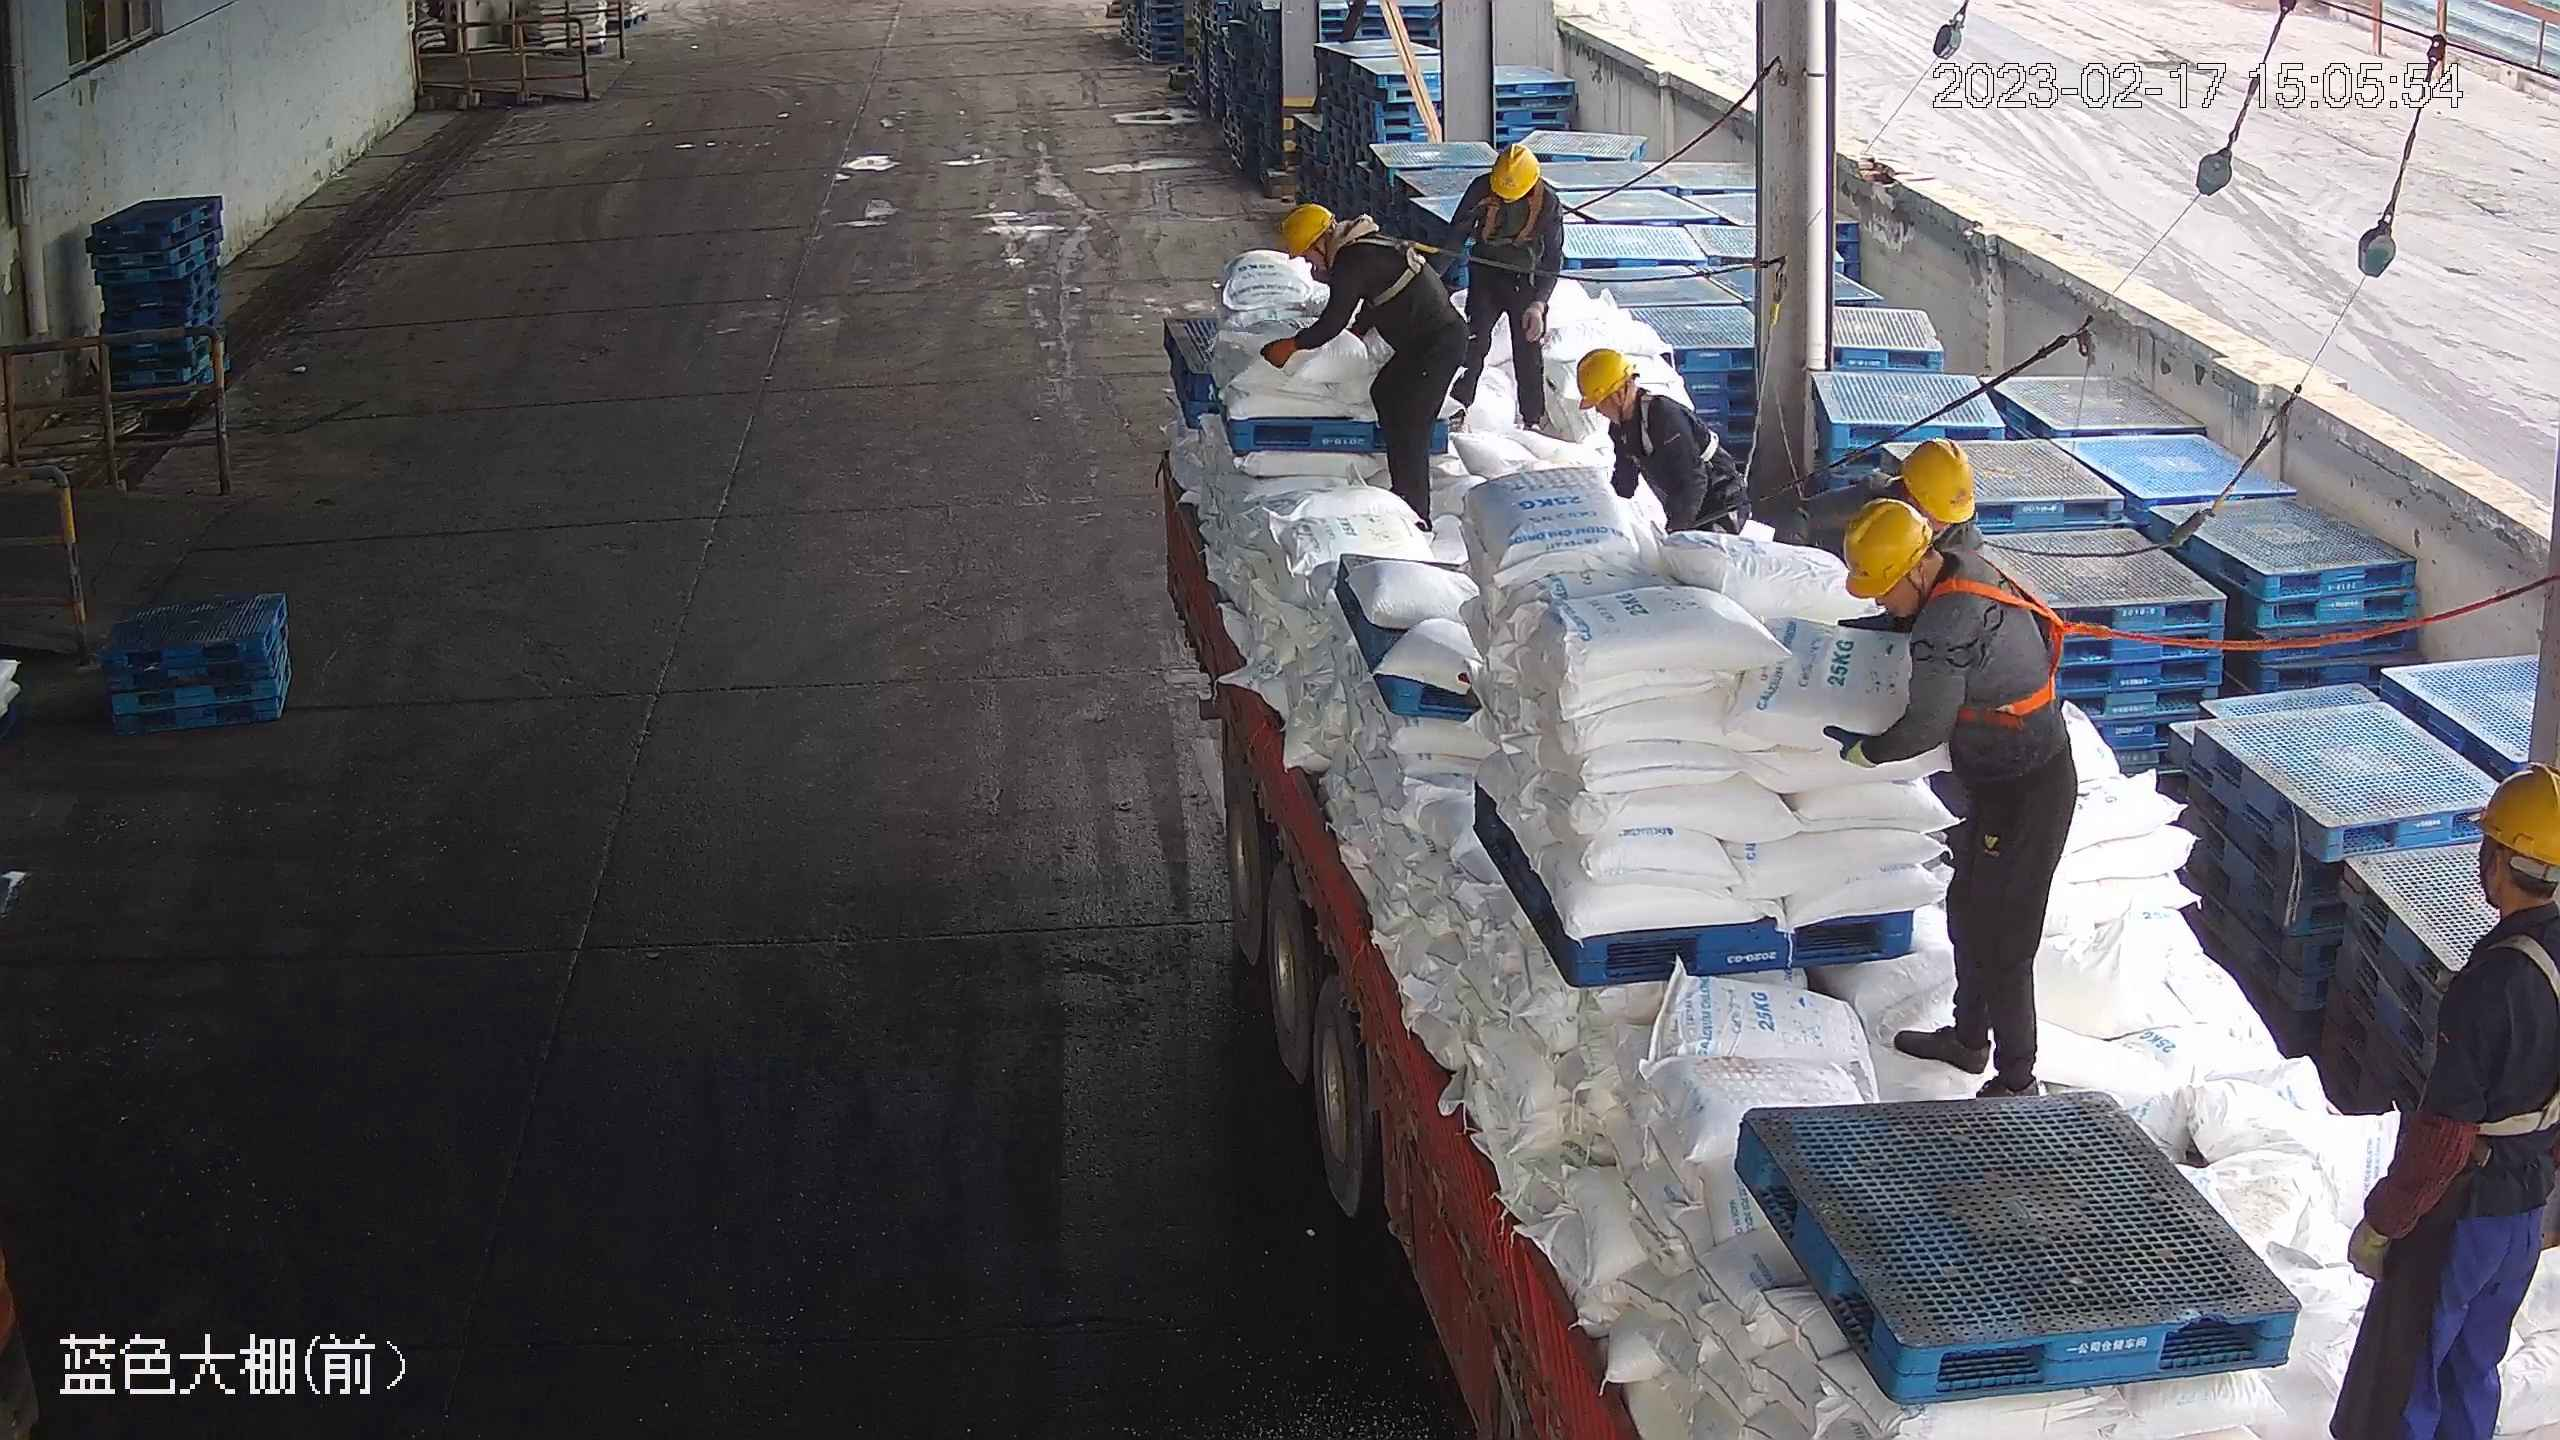belt: (1922, 559, 2095, 728), (2448, 914, 2560, 1149), (1615, 385, 1721, 469), (1350, 227, 1443, 315), (1475, 177, 1550, 247)
head: (2430, 762, 2557, 1050), (1845, 496, 2041, 672), (1576, 344, 1701, 456), (1282, 204, 1399, 310), (1462, 143, 1564, 228)
helmet: (1841, 499, 1938, 601), (2470, 763, 2558, 871), (1896, 438, 1976, 523), (1574, 344, 1634, 409), (1488, 143, 1542, 201), (1281, 203, 1336, 259)
people: (1826, 488, 2077, 1104), (2339, 764, 2560, 1434), (1256, 202, 1467, 527), (1441, 141, 1567, 430), (1574, 345, 1740, 538)
truck: (1162, 303, 2544, 1440)
